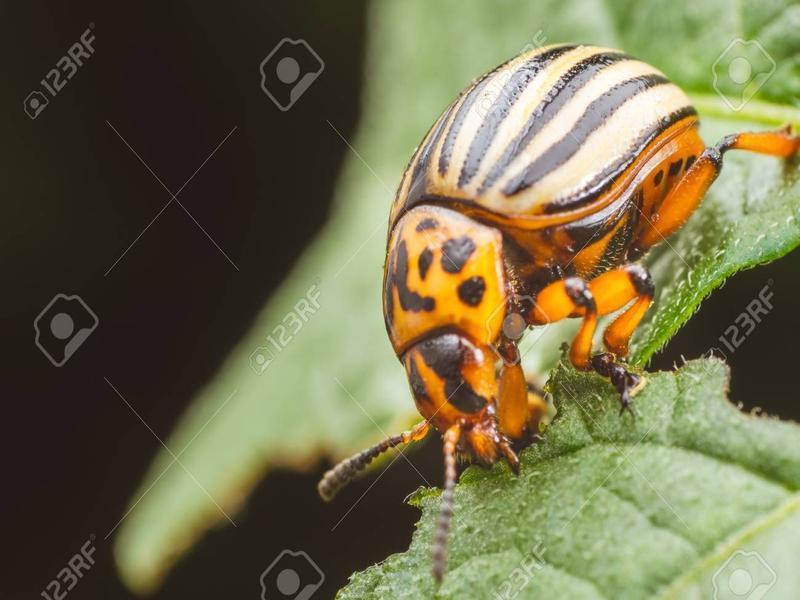hrosc: (368, 24, 722, 471)
